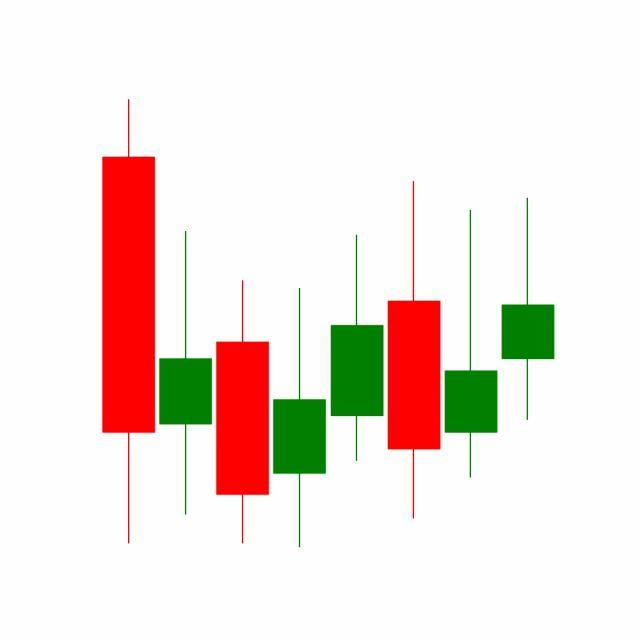Hikkake Pattern: (270, 178, 555, 549)
